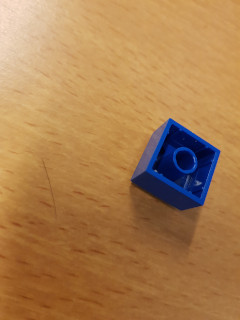2x2 blue: (128, 116, 224, 213)
